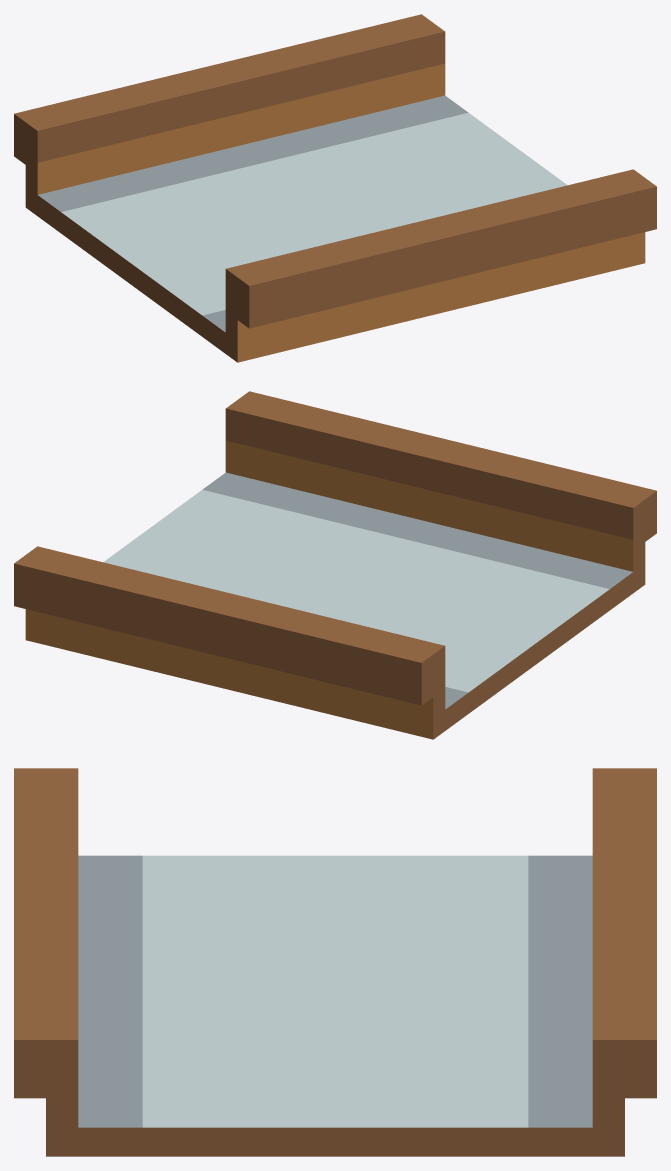
Rendered from bridge_center_woodRound.glb.
The picture shows the model from 3 angles, top to bottom: view 1: azimuth 30°, elevation 25°; view 2: azimuth 150°, elevation 25°; view 3: azimuth 270°, elevation 25°; orthographic projection. The views are drawn at different scales.
Visible parts, largest first — view 1: bridge_center_woodRound; view 2: bridge_center_woodRound; view 3: bridge_center_woodRound.
Part boxes in pixels (box(x1,y1,x2,y2)): bridge_center_woodRound: box(14, 14, 656, 362); bridge_center_woodRound: box(14, 391, 656, 739); bridge_center_woodRound: box(14, 768, 656, 1156).
Bounding box in the file's own units: 1 × 0.2 × 1.
